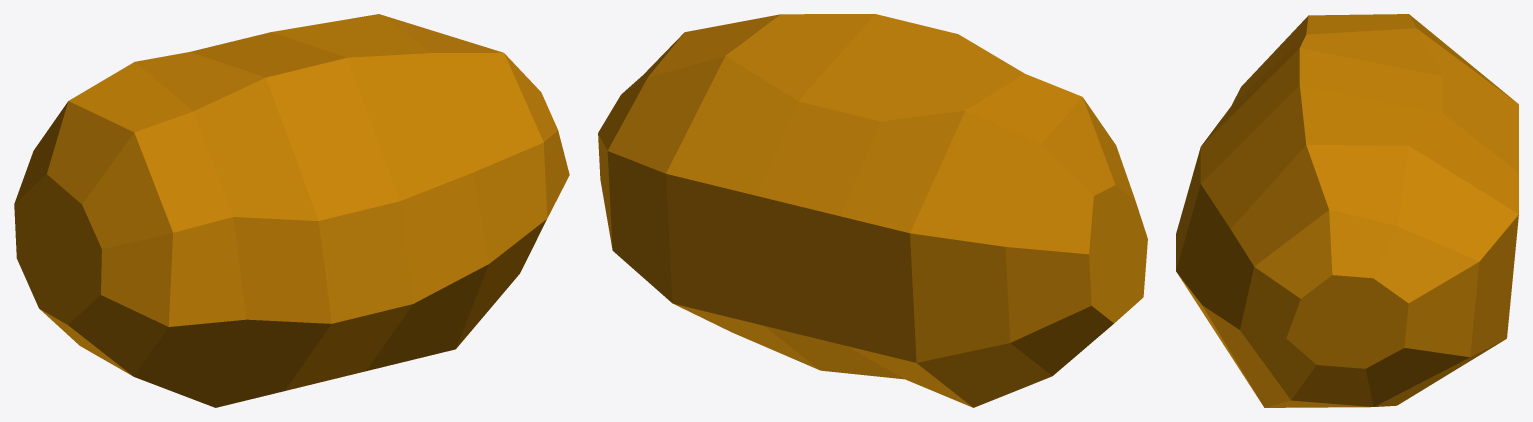
File: potato01.gltf
3 views of the same model, side by side, from view 1: azimuth 30°, elevation 25°; view 2: azimuth 150°, elevation 25°; view 3: azimuth 270°, elevation 25° (orthographic). The views are drawn at different scales.
Parts seen in each view (by area): view 1: Cylinder.001; view 2: Cylinder.001; view 3: Cylinder.001.
Part boxes in pixels (x1,y1,x2,y2): Cylinder.001: (14, 14, 569, 407); Cylinder.001: (598, 14, 1147, 407); Cylinder.001: (1176, 14, 1518, 407).
Size of the model in its own units: 0.1018 by 0.0622 by 0.0661.
Materials: 1 (1 with a texture image).
